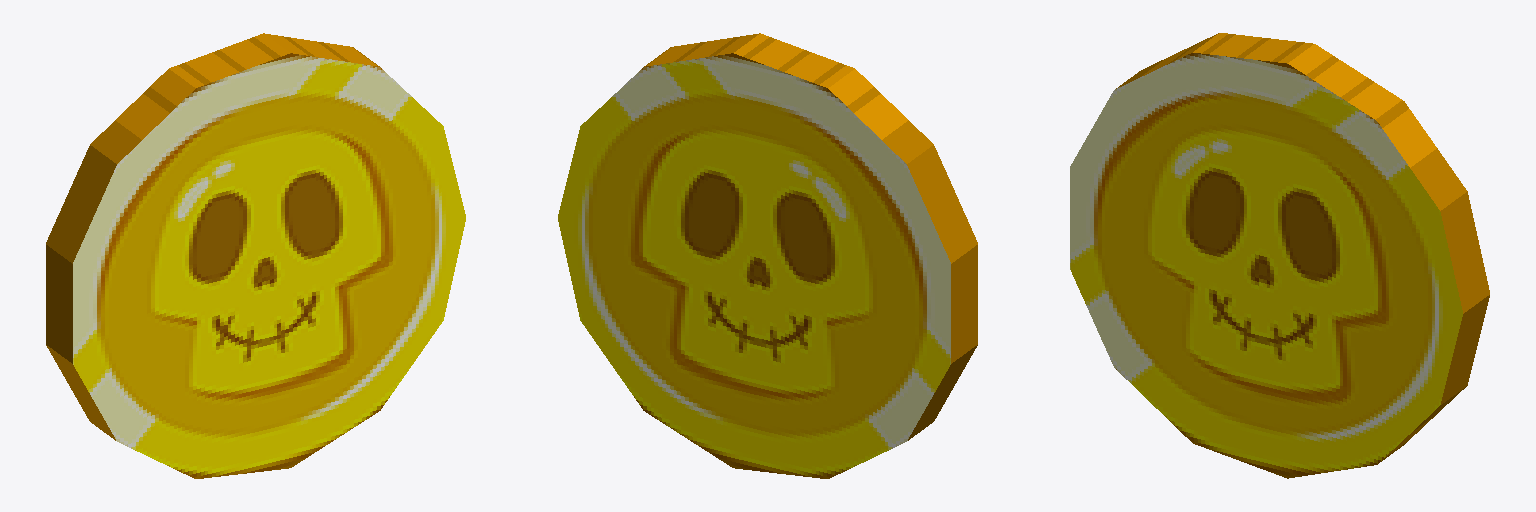
3 views of the same model, side by side, from view 1: azimuth 30°, elevation 25°; view 2: azimuth 150°, elevation 25°; view 3: azimuth 330°, elevation 25° (orthographic).
Parts seen in each view (by area): view 1: Coin; view 2: Coin; view 3: Coin.
Part boxes in pixels (left/top/right/bottom): Coin: left=46, top=33, right=465, bottom=478; Coin: left=558, top=33, right=977, bottom=478; Coin: left=1070, top=33, right=1489, bottom=478.
Size of the model in its own units: 243 by 245 by 29.08.
Materials: 1 (1 with a texture image).